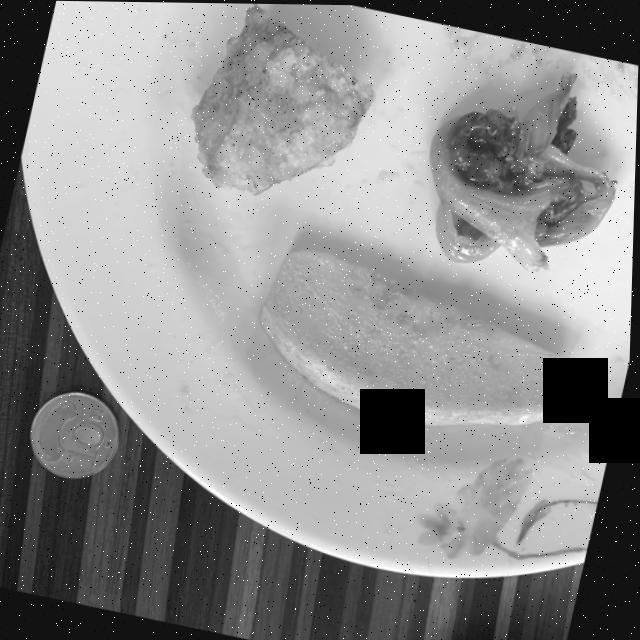coin: (33, 392, 122, 479)
fried potato: (192, 5, 376, 194)
guava -sliced-: (262, 250, 578, 424)
mustard greens: (431, 71, 617, 269)
